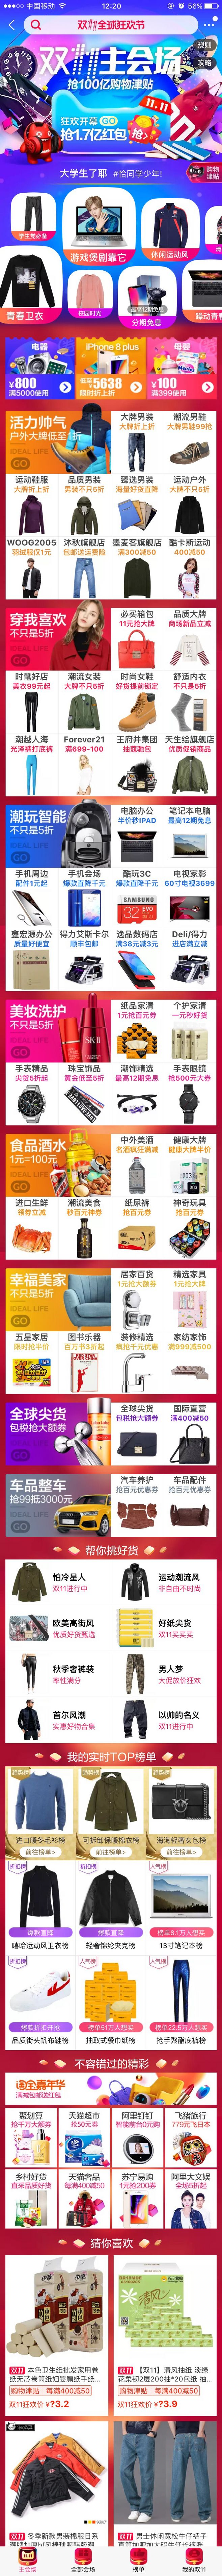floors: (0, 2234, 222, 2546), (0, 1750, 222, 2052), (0, 1543, 222, 1745), (0, 409, 222, 600), (0, 608, 222, 797), (0, 803, 222, 992), (0, 2057, 222, 2229), (0, 187, 222, 330), (0, 997, 222, 1127), (0, 1132, 222, 1262), (0, 1267, 222, 1395), (0, 1472, 222, 1539), (0, 335, 222, 401), (0, 1401, 222, 1467)
toutu: (0, 15, 222, 186)
